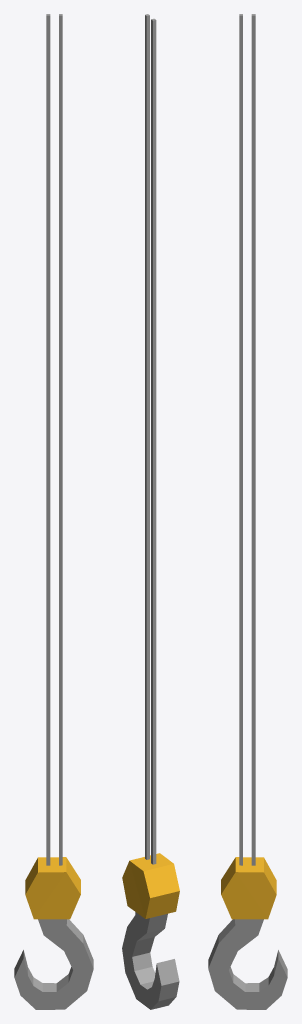
The model's file is hook.obj.
The picture shows the model from 3 angles, left to right: view 1: azimuth 90°, elevation 25°; view 2: azimuth 210°, elevation 25°; view 3: azimuth 270°, elevation 25°; orthographic projection.
Parts seen in each view (by area): view 1: 立方体.002; view 2: 立方体.002; view 3: 立方体.002.
Boxes of the visible parts, box(x1,y1,x2,y2) form: 立方体.002: box(14, 14, 93, 1009); 立方体.002: box(122, 14, 179, 1009); 立方体.002: box(208, 14, 287, 1009).
Bounding box in the file's own units: 0.2562 × 7.88 × 0.5729.
1 material, 1 textured.
